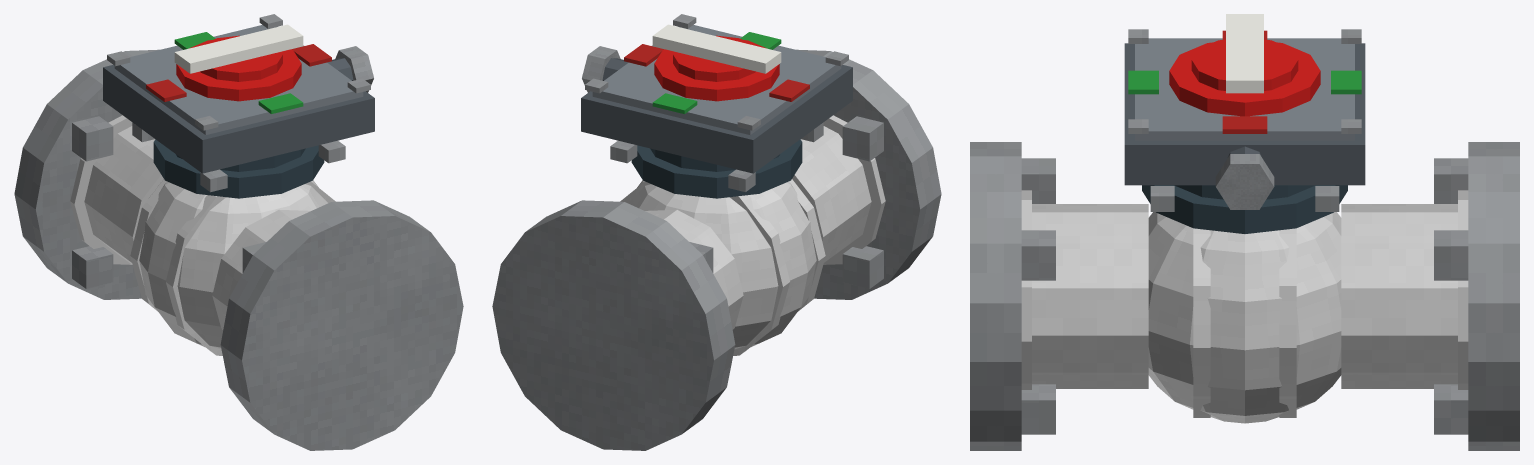
The model's file is closed.obj.
3 views of the same model, side by side, from view 1: azimuth 30°, elevation 25°; view 2: azimuth 150°, elevation 25°; view 3: azimuth 270°, elevation 25° (orthographic). The views are drawn at different scales.
Size of the model in its own units: 0.5938 by 0.7812 by 1.
